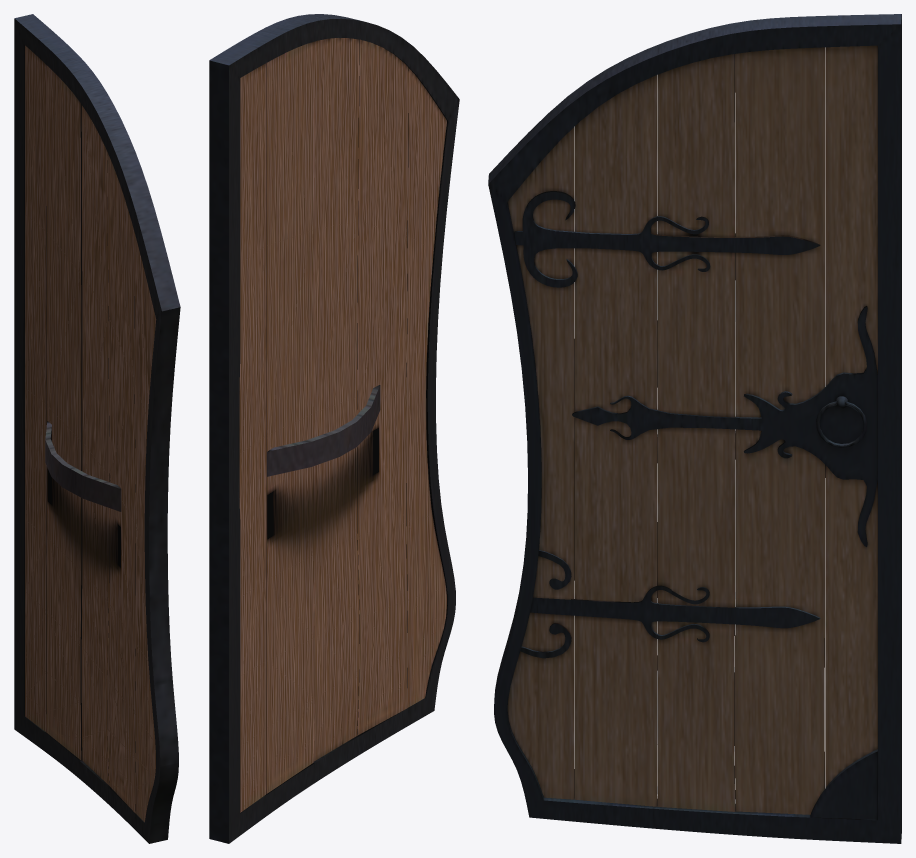
Rendered from giantdoorshieldr.obj.
3 renders of one model, left to right at view 1: azimuth 30°, elevation 25°; view 2: azimuth 150°, elevation 25°; view 3: azimuth 270°, elevation 25°, orthographic. The views are drawn at different scales.
Parts seen in each view (by area): view 1: shield_final; view 2: shield_final; view 3: shield_final.
Boxes of the visible parts, x1,y1,x2,y2 form: shield_final: [14, 14, 180, 843]; shield_final: [209, 14, 459, 843]; shield_final: [488, 14, 901, 843].
Size of the model in its own units: 0.2998 by 3.75 by 1.71.
